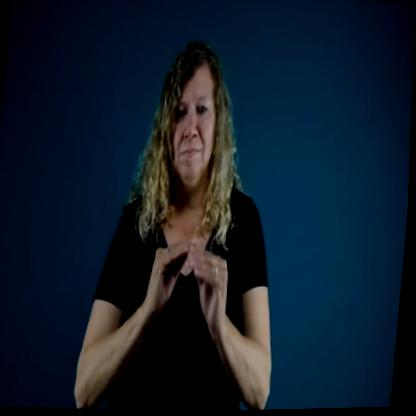Fix: (72, 35, 303, 415)
